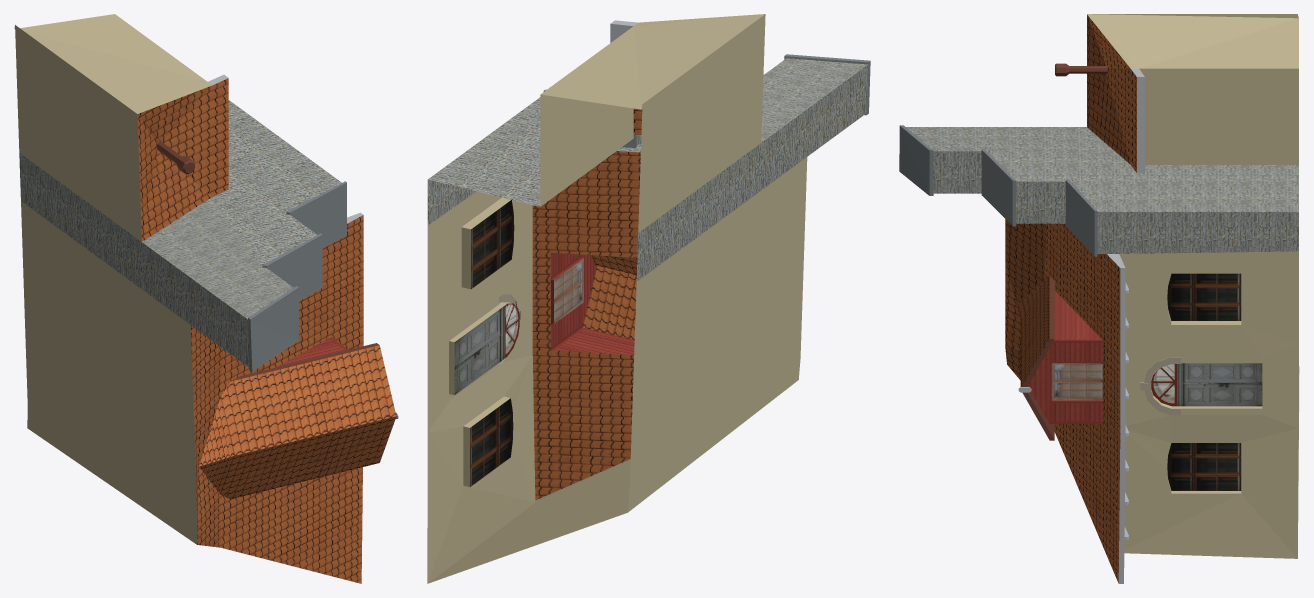
File: Ryytli_24_2.obj
3 views of the same model, side by side, from view 1: azimuth 30°, elevation 25°; view 2: azimuth 150°, elevation 25°; view 3: azimuth 270°, elevation 25° (orthographic). The views are drawn at different scales.
Parts seen in each view (by area): view 1: Ryytli_24_2; view 2: Ryytli_24_2; view 3: Ryytli_24_2.
Boxes of the visible parts, box(x1,y1,x2,y2) form: Ryytli_24_2: box(14, 14, 398, 583); Ryytli_24_2: box(427, 14, 870, 583); Ryytli_24_2: box(899, 14, 1299, 583).
Bounding box in the file's own units: 5.66 × 11.94 × 9.26.
